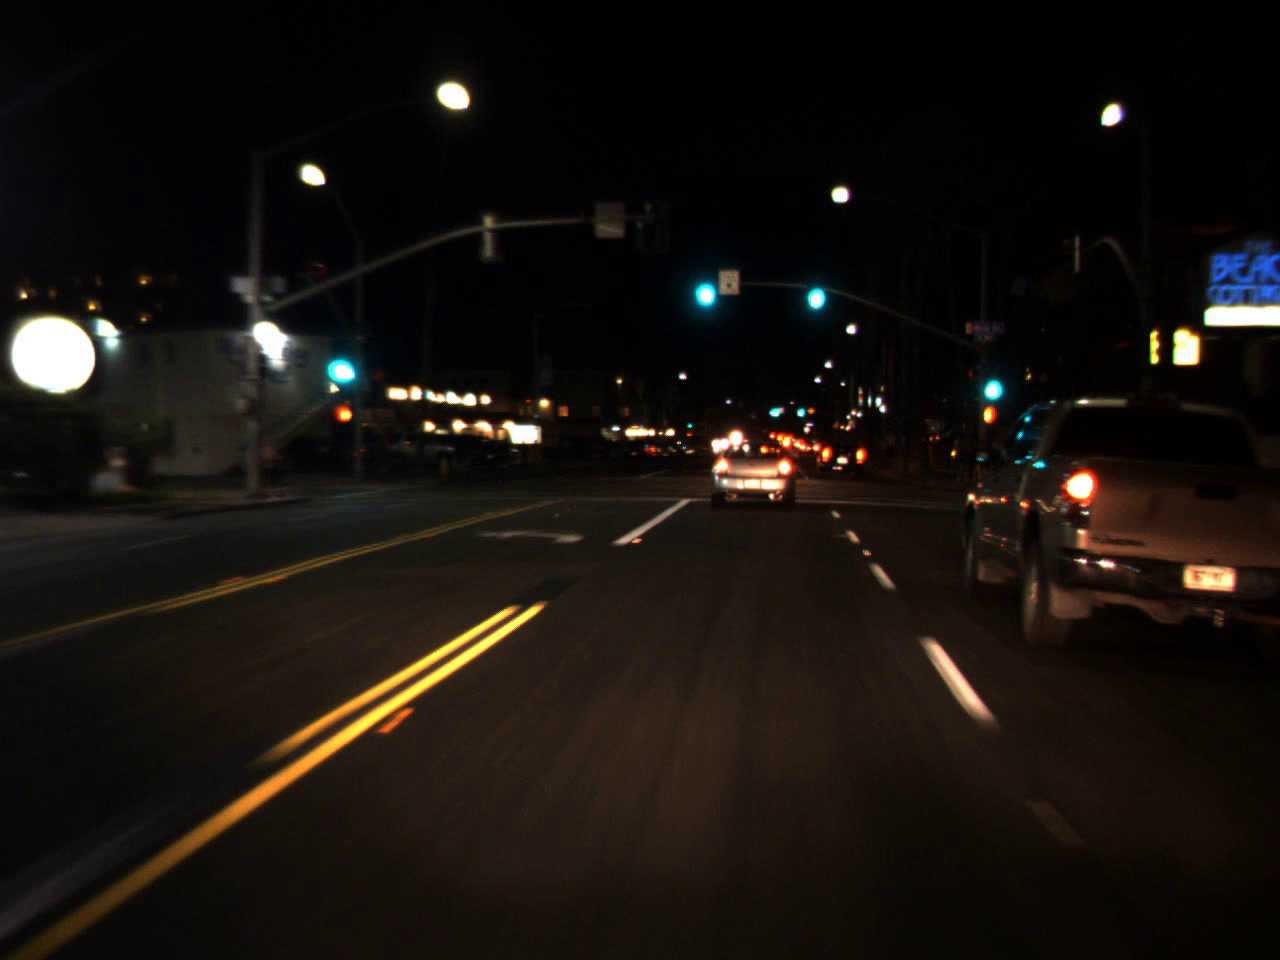go: (314, 325, 362, 394), (686, 251, 720, 317), (799, 260, 829, 317), (978, 354, 1006, 408), (765, 398, 783, 419), (795, 398, 805, 419), (686, 417, 693, 429)
